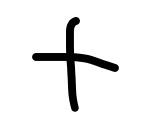plus: (30, 14, 118, 109)
